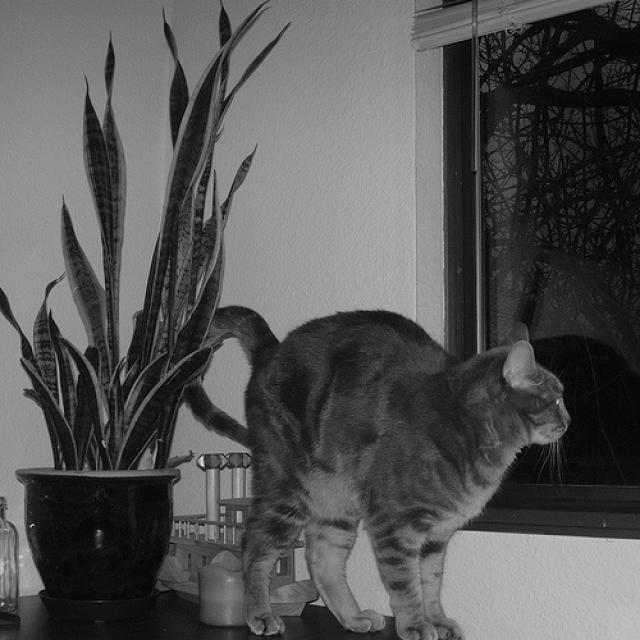cat: (190, 301, 566, 639)
pottedplant: (5, 0, 249, 600)
